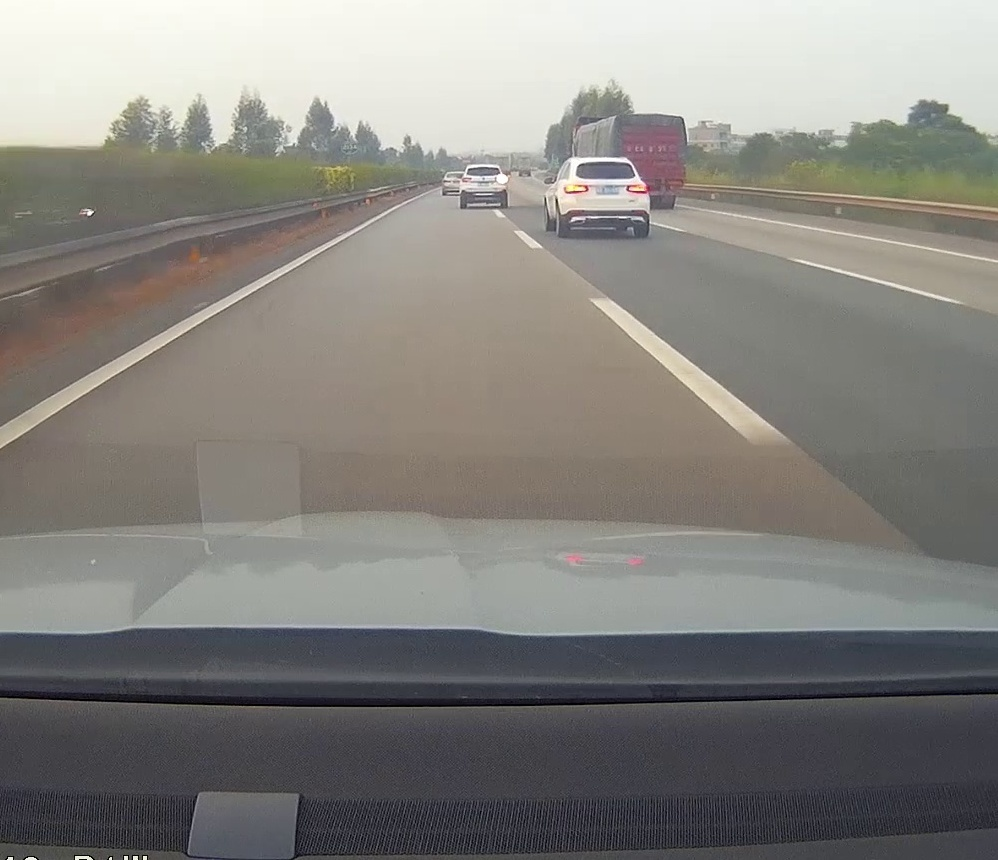L_light: (564, 184, 589, 194), (462, 177, 472, 182)
R_light: (626, 184, 647, 193), (495, 177, 506, 182)
T_light: (598, 161, 614, 163), (478, 166, 488, 169)
day-no: (563, 157, 649, 237)
day-right: (460, 164, 509, 208)
